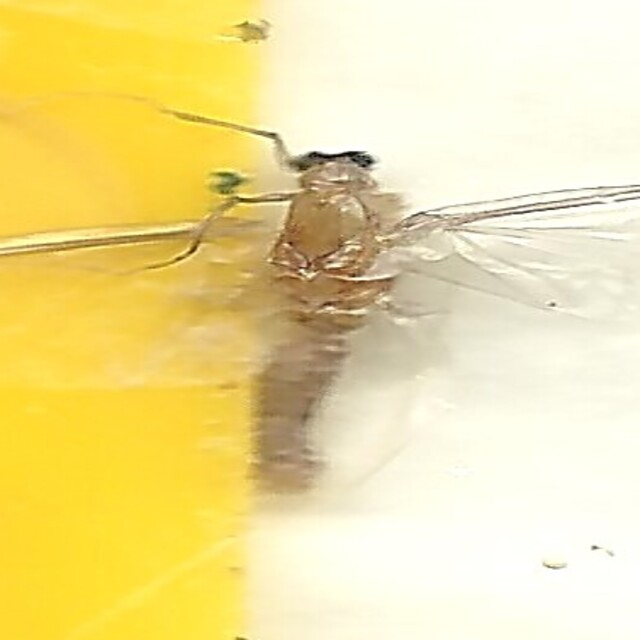Ephemeroptera: (243, 147, 397, 493)
